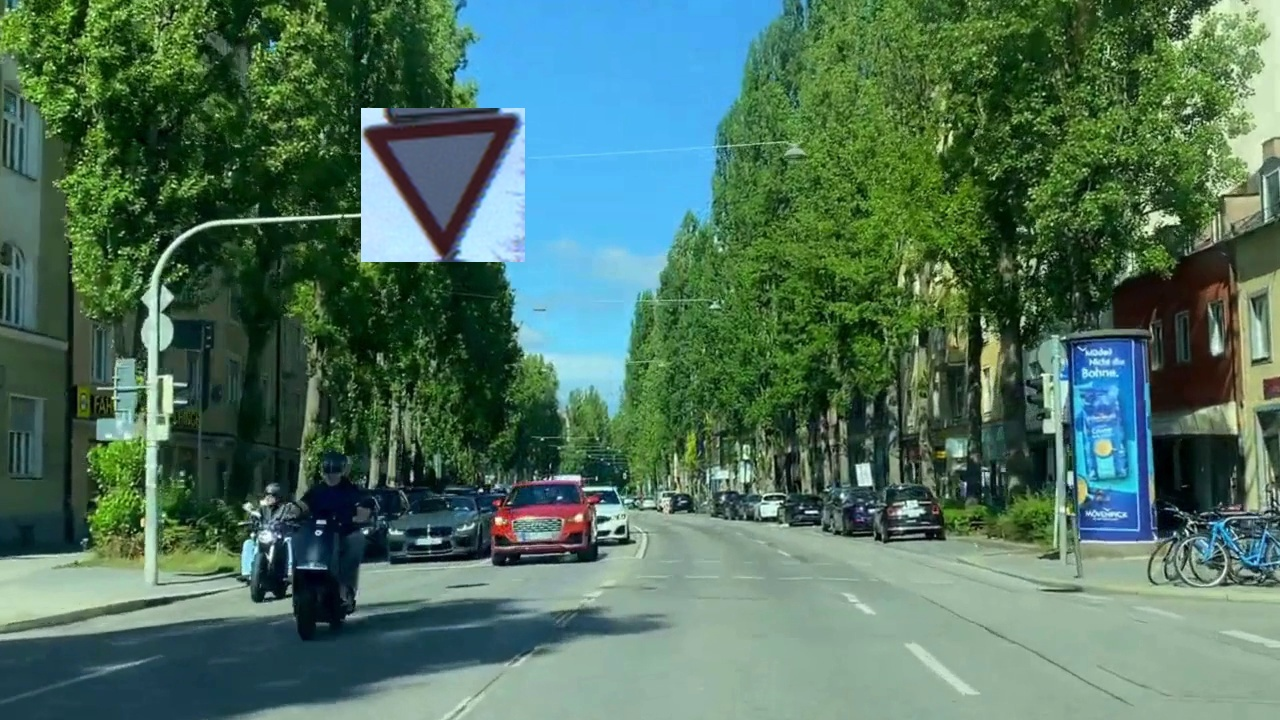Yield: (361, 108, 525, 262)
